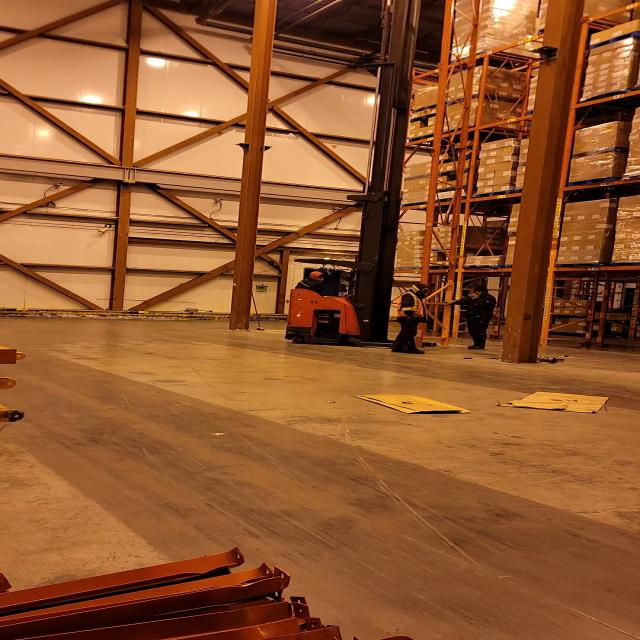forklift: (284, 191, 439, 354)
human: (446, 278, 502, 354), (386, 279, 436, 357), (291, 268, 335, 296)
objectofinterest: (411, 5, 468, 351), (492, 388, 616, 415), (344, 390, 468, 416)
